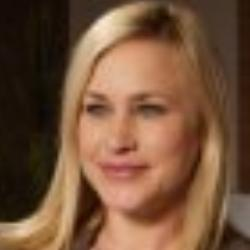face: (16, 2, 246, 225)
